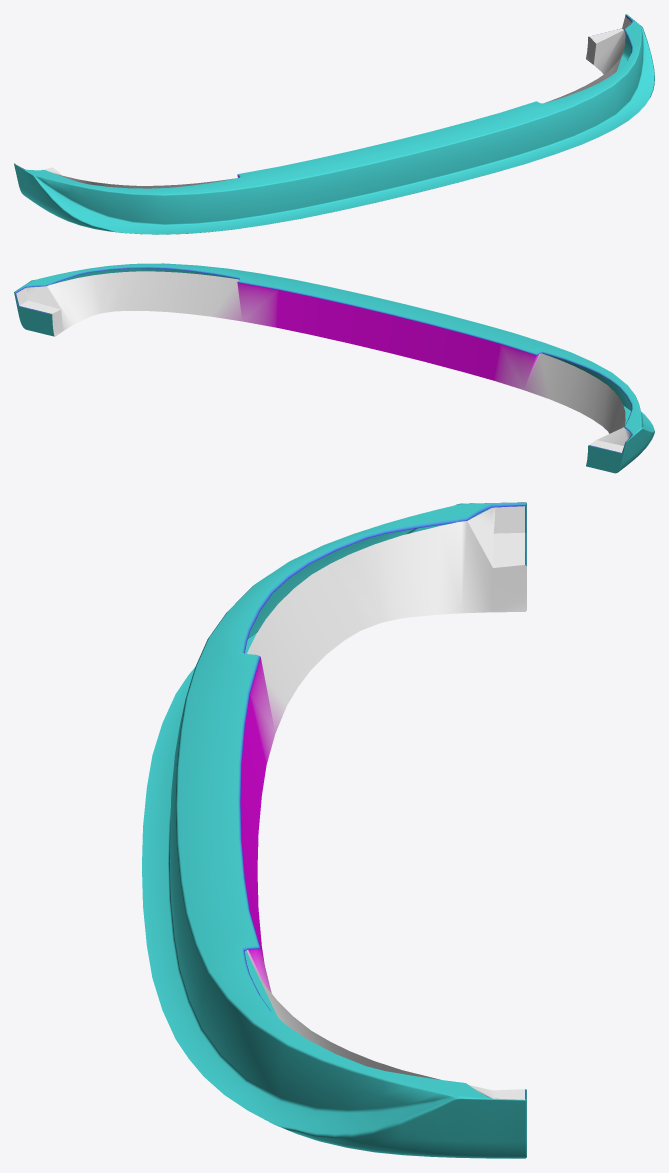
File: Car_Mini_CountrymanJCW_2017_Splitter_SetD.fbx
3 renders of one model, top to bottom at view 1: azimuth 30°, elevation 25°; view 2: azimuth 150°, elevation 25°; view 3: azimuth 270°, elevation 25°, orthographic. The views are drawn at different scales.
Parts seen in each view (by area): view 1: Splitter 6; view 2: Splitter 6; view 3: Splitter 6.
Part boxes in pixels (x1,y1,x2,y2): Splitter 6: (14, 14, 654, 234); Splitter 6: (14, 263, 654, 473); Splitter 6: (142, 502, 526, 1158).
Bounding box in the file's own units: 1.74 × 0.0963 × 0.4739.
